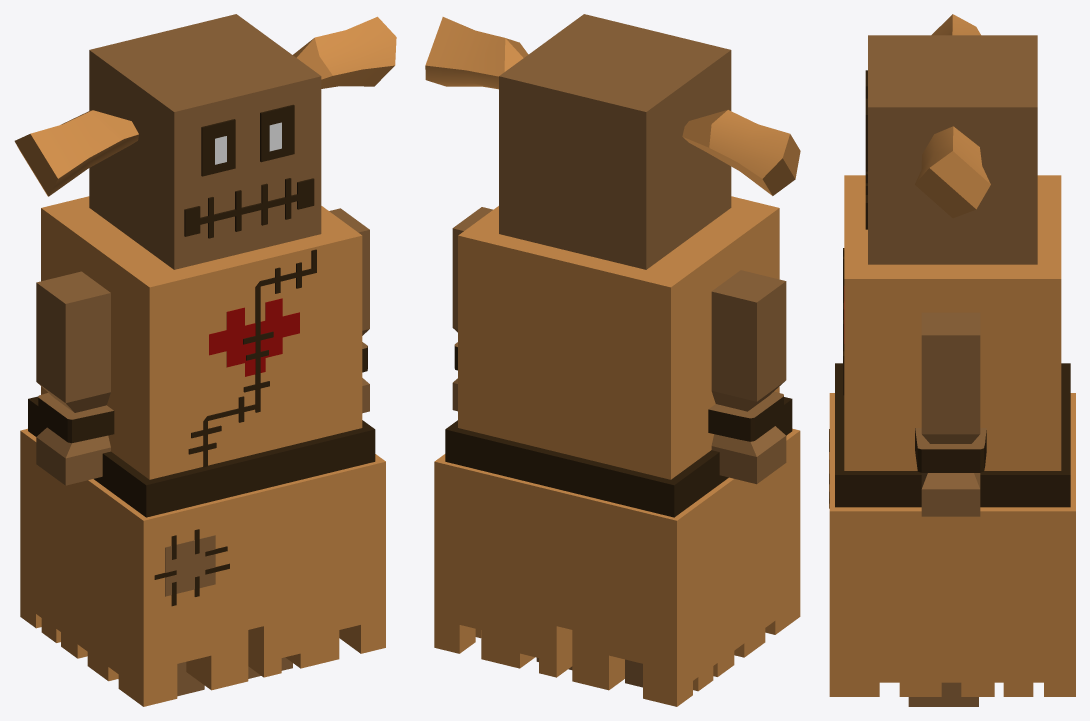
Rendered from 3D.Bambola.fbx.
3 renders of one model, left to right at view 1: azimuth 30°, elevation 25°; view 2: azimuth 150°, elevation 25°; view 3: azimuth 270°, elevation 25°, orthographic.
Parts seen in each view (by area): view 1: Vestito, Corpo, cCintura, Codini, Cuciture, Cuore, Toppa, pupille; view 2: Vestito, Corpo, cCintura, Codini; view 3: Vestito, Corpo, cCintura, Codini, Cuciture.
Boxes of the visible parts, <box> form: Vestito: <box>20,196,385,706</box>; Corpo: <box>36,14,369,696</box>; cCintura: <box>28,346,375,517</box>; Codini: <box>14,16,396,196</box>; Cuciture: <box>154,104,316,606</box>; Cuore: <box>209,298,299,376</box>; Toppa: <box>165,535,215,596</box>; pupille: <box>215,122,281,164</box>; Vestito: <box>434,196,800,706</box>; Corpo: <box>452,14,786,687</box>; cCintura: <box>445,345,792,517</box>; Codini: <box>425,17,800,195</box>; Vestito: <box>829,175,1075,696</box>; Corpo: <box>868,35,1037,706</box>; cCintura: <box>835,363,1070,507</box>; Codini: <box>915,14,990,218</box>; Cuciture: <box>829,70,867,503</box>.
Bounding box in the file's own units: 170 × 275 × 101.
